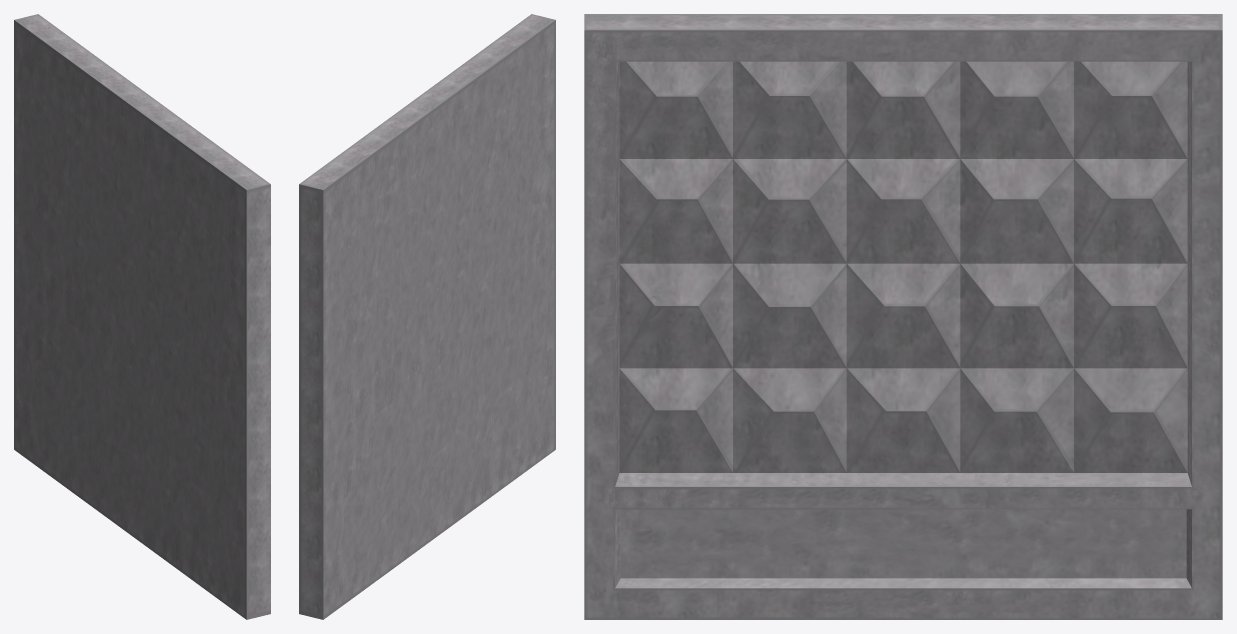
The model's file is Fence.fbx.
3 views of the same model, side by side, from view 1: azimuth 30°, elevation 25°; view 2: azimuth 150°, elevation 25°; view 3: azimuth 270°, elevation 25° (orthographic). The views are drawn at different scales.
Parts seen in each view (by area): view 1: Segment(Short); view 2: Segment(Short); view 3: Segment(Short).
Part boxes in pixels (box(x1,y1,x2,y2)): Segment(Short): box(14, 14, 270, 619); Segment(Short): box(299, 14, 555, 619); Segment(Short): box(584, 14, 1222, 619).
Size of the model in its own units: 15 by 255 by 250.
1 material, 1 textured.
